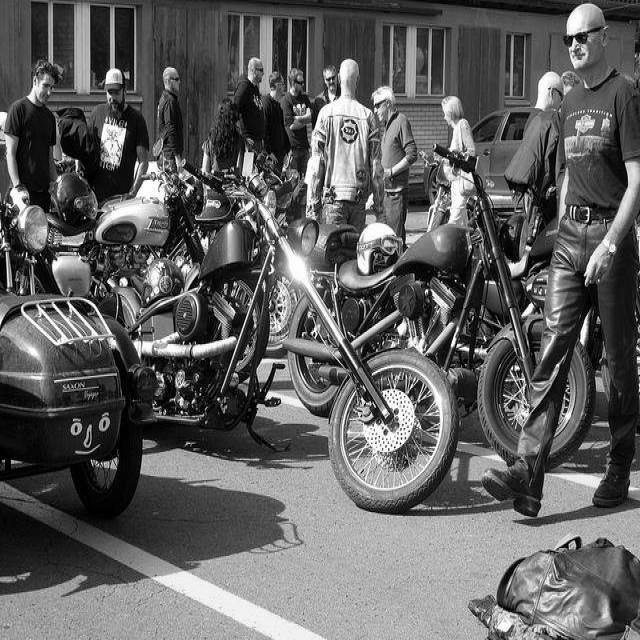vehicle: (49, 158, 467, 522), (284, 132, 602, 474), (0, 293, 161, 517), (498, 187, 640, 433), (423, 108, 541, 224), (98, 161, 217, 245), (242, 138, 307, 213)
